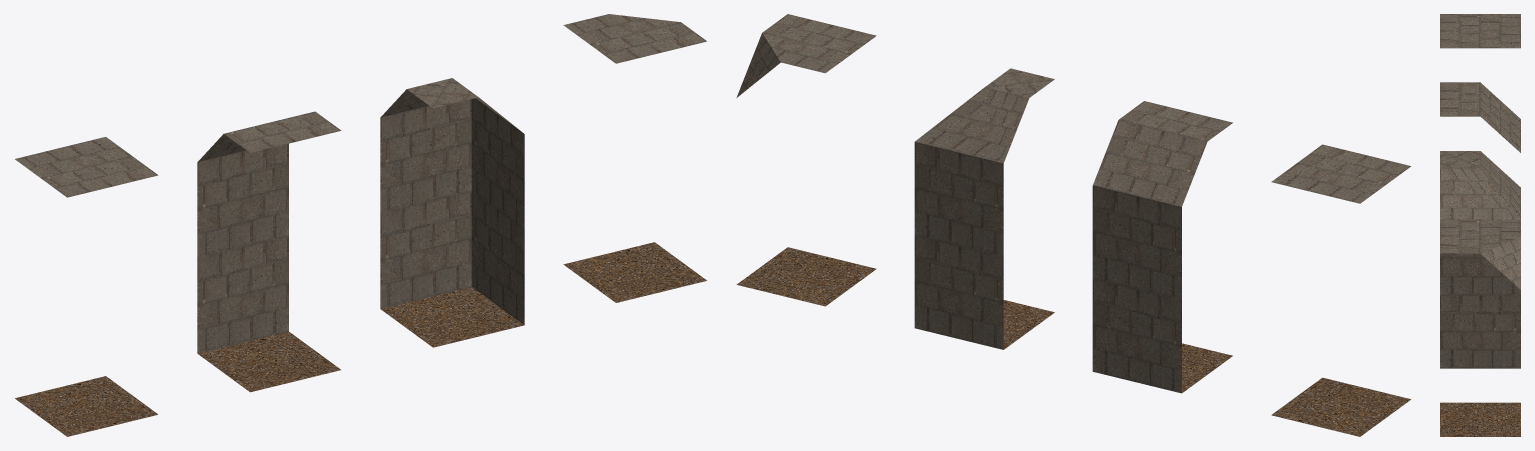
Rendered from dungeontileset.glb.
3 views of the same model, side by side, from view 1: azimuth 30°, elevation 25°; view 2: azimuth 150°, elevation 25°; view 3: azimuth 270°, elevation 25° (orthographic). The views are drawn at different scales.
Visible parts, largest first — view 1: corner-in-col, wall-col, floor-col, corner-out-col; view 2: wall-col, corner-in-col, corner-out-col, floor-col; view 3: corner-in-col, corner-out-col, floor-col, wall-col.
Boxes of the visible parts, bbox=[...] form: corner-in-col: bbox=[380, 78, 524, 347]; wall-col: bbox=[197, 111, 341, 392]; floor-col: bbox=[15, 137, 158, 436]; corner-out-col: bbox=[563, 14, 706, 302]; wall-col: bbox=[1092, 101, 1232, 393]; corner-in-col: bbox=[914, 68, 1054, 349]; corner-out-col: bbox=[736, 14, 876, 306]; floor-col: bbox=[1271, 144, 1411, 436]; corner-in-col: bbox=[1440, 151, 1520, 368]; corner-out-col: bbox=[1440, 219, 1520, 436]; floor-col: bbox=[1440, 14, 1520, 48]; wall-col: bbox=[1440, 82, 1520, 152].
Size of the model in its own units: 7 by 2.5 by 1.
1 material, 1 textured.
